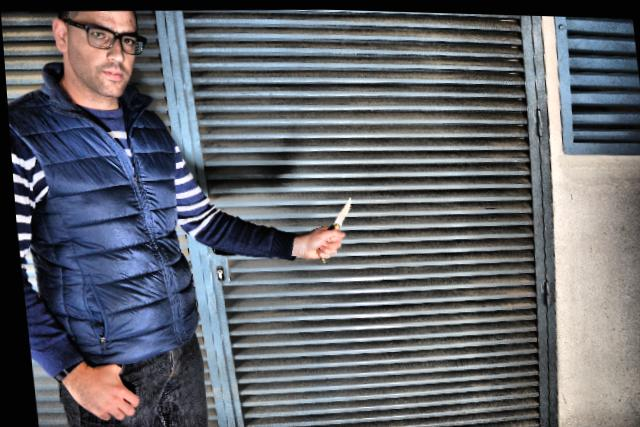knife: (310, 190, 356, 263)
